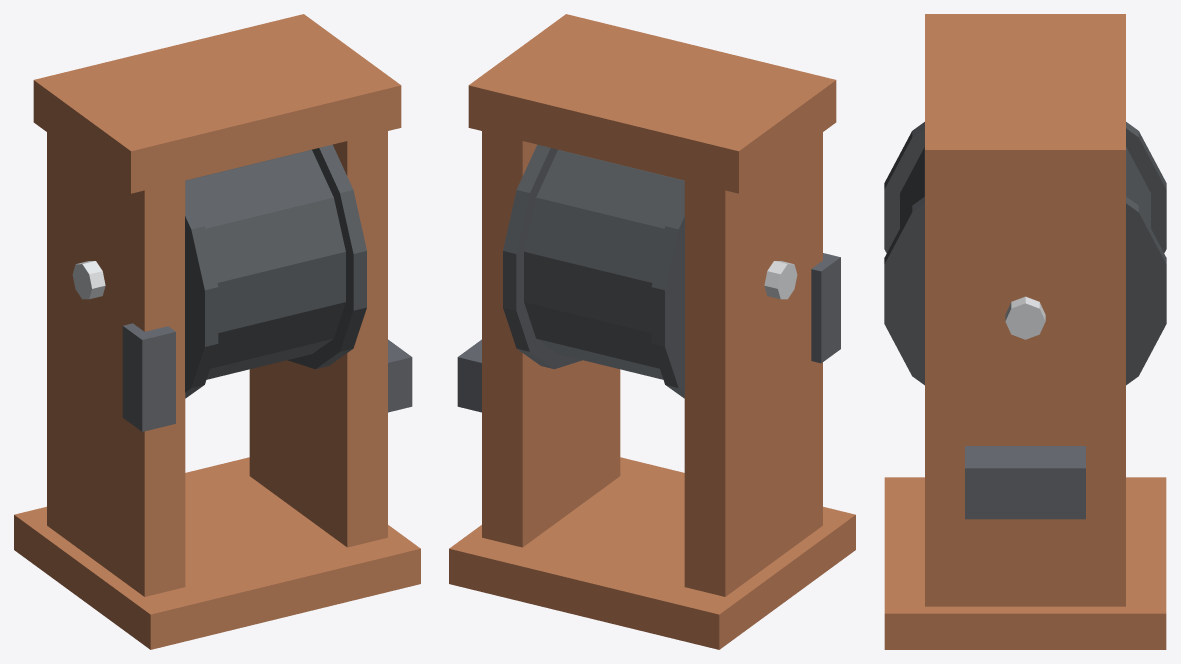
The model's file is shipyard-and-dry-dock-shipyard-and-dry-dock-hose-reel--6d7ad399__37953.glb.
The picture shows the model from 3 angles, left to right: view 1: azimuth 30°, elevation 25°; view 2: azimuth 150°, elevation 25°; view 3: azimuth 270°, elevation 25°; orthographic projection. The views are drawn at different scales.
Parts seen in each view (by area): view 1: shipyard-and-dry-dock-hose-reel-stand, reel-drum; view 2: shipyard-and-dry-dock-hose-reel-stand, reel-drum; view 3: shipyard-and-dry-dock-hose-reel-stand, reel-drum.
Boxes of the visible parts, x1,y1,x2,y2 form: shipyard-and-dry-dock-hose-reel-stand: [14, 14, 420, 649]; reel-drum: [185, 144, 366, 398]; shipyard-and-dry-dock-hose-reel-stand: [449, 14, 855, 649]; reel-drum: [503, 144, 684, 398]; shipyard-and-dry-dock-hose-reel-stand: [884, 14, 1166, 649]; reel-drum: [884, 122, 1166, 385].
Bounding box in the file's own units: 0.89 × 1.37 × 0.702.
